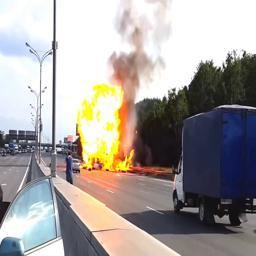fire: (78, 83, 135, 171)
